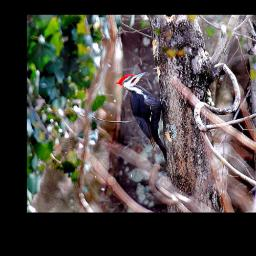Woodpecker: (112, 71, 168, 164)
